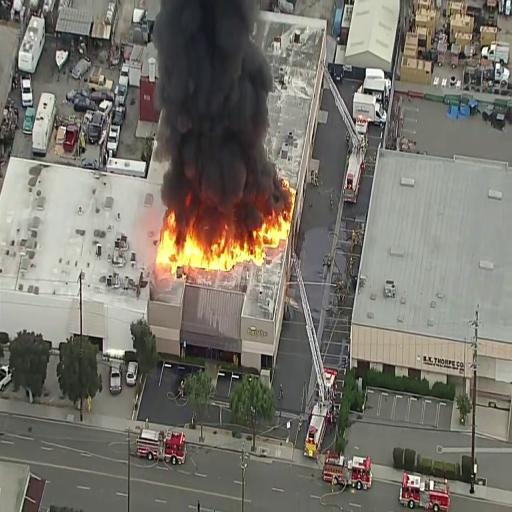fire: (198, 223, 261, 268), (251, 205, 291, 246), (156, 211, 180, 268), (179, 220, 204, 268)
smoke: (158, 8, 270, 210)
